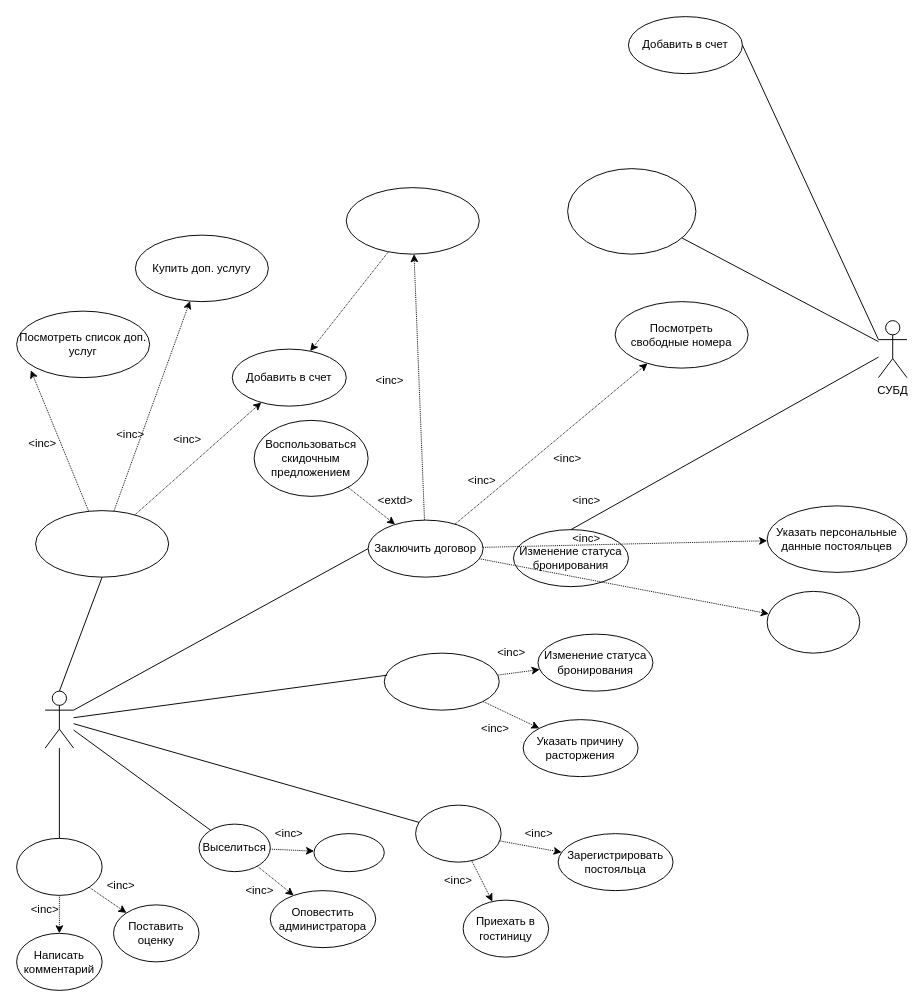
This 924x1007 diagram has some shape labels left out. Here are the shapes that lost their labels. From the top down, the centre of each, then its label:
At point (412, 220): "Оплатить номер".
At point (631, 211): "Предоставить список всех клиентов".
At point (102, 543): "Воспользоваться доп. услугой".
At point (813, 621): "Получить договор".
At point (441, 681): "Расторгнуть договор".
At point (59, 719): "Клиент".
At point (348, 852): "Получить счет".
At point (458, 833): "Заселиться в гостиницу".
At point (59, 866): "Написать отзыв".
